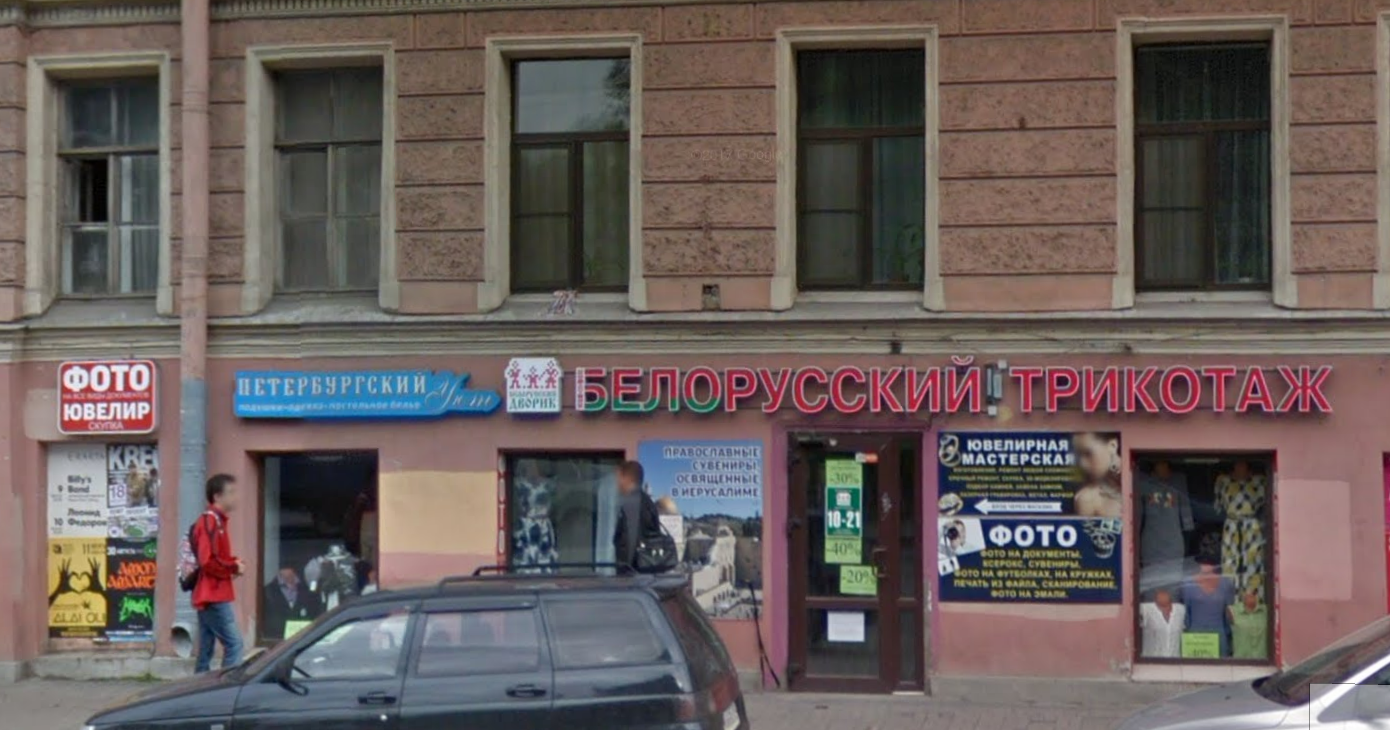door: (787, 434, 928, 691), (501, 449, 623, 575)
signboard: (502, 352, 1341, 425), (224, 362, 500, 421), (43, 353, 163, 435)
window: (1129, 29, 1277, 292), (789, 38, 932, 297), (496, 48, 636, 299), (1129, 443, 1274, 665), (266, 61, 391, 300), (43, 73, 162, 301)
